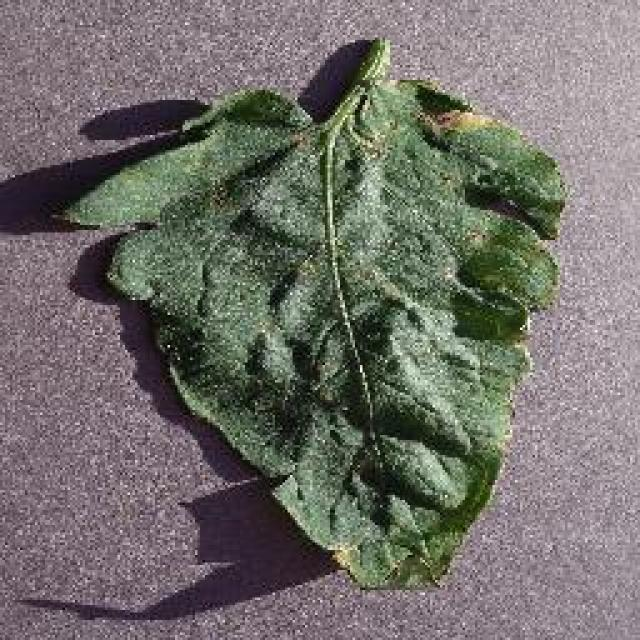Tomato___Target_Spot: (62, 40, 565, 585)
